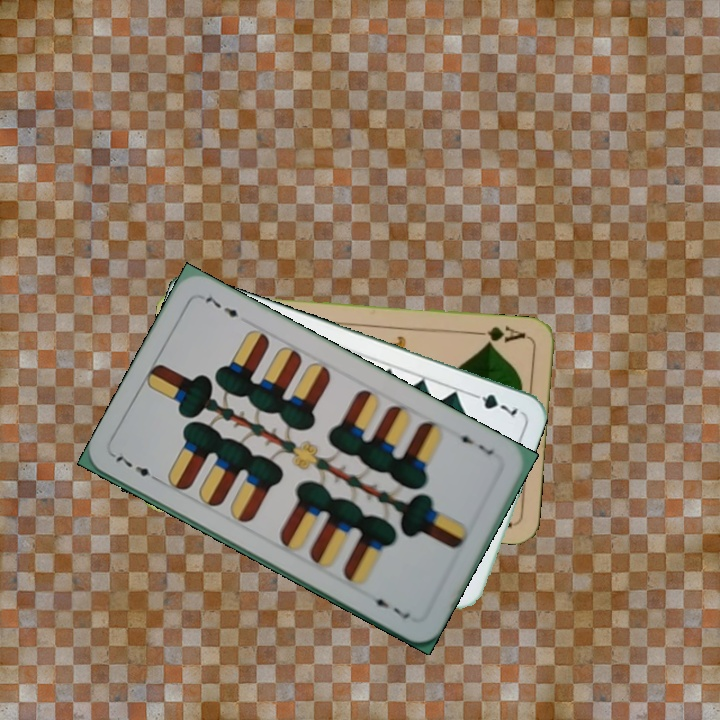E7: (110, 450, 164, 486), (451, 428, 496, 458)
G7: (465, 388, 520, 421)
GA: (470, 322, 528, 348)
